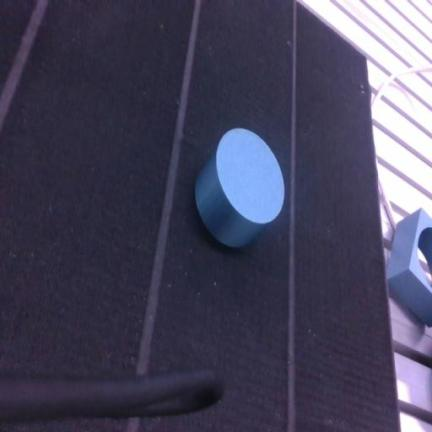cylinder: (195, 128, 284, 247)
